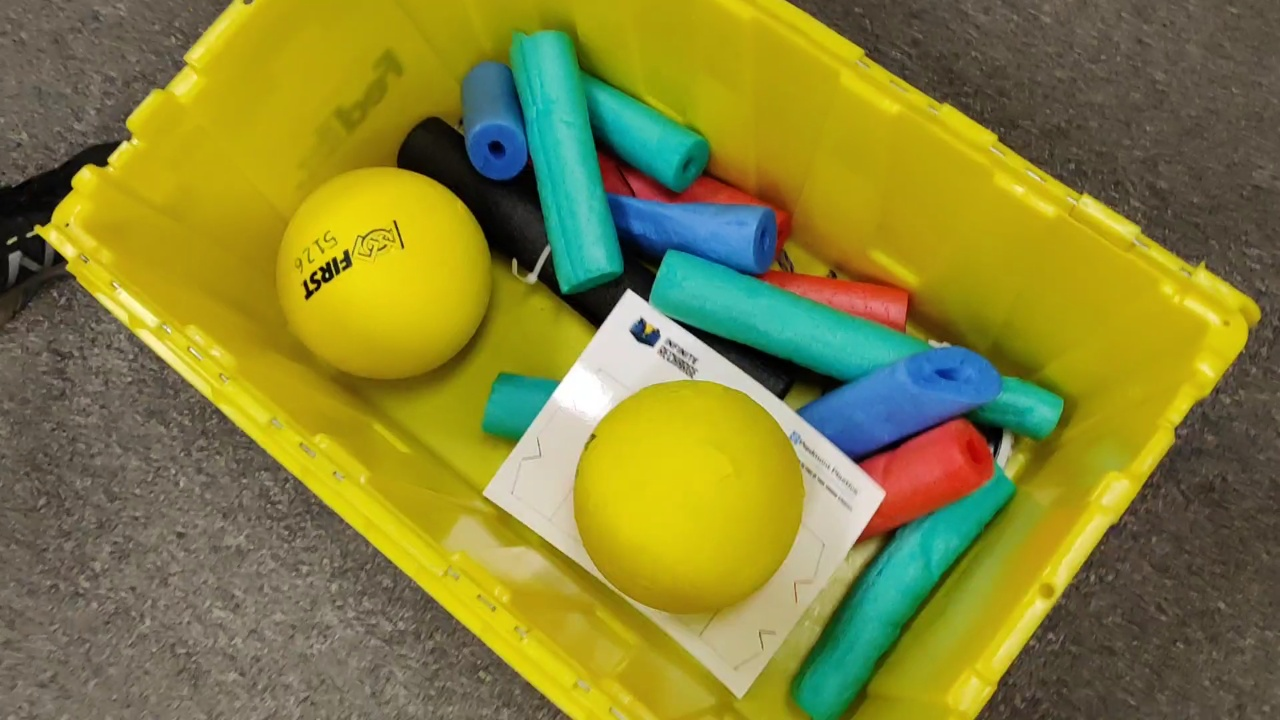Ball: (574, 381, 805, 612), (277, 167, 492, 372)
